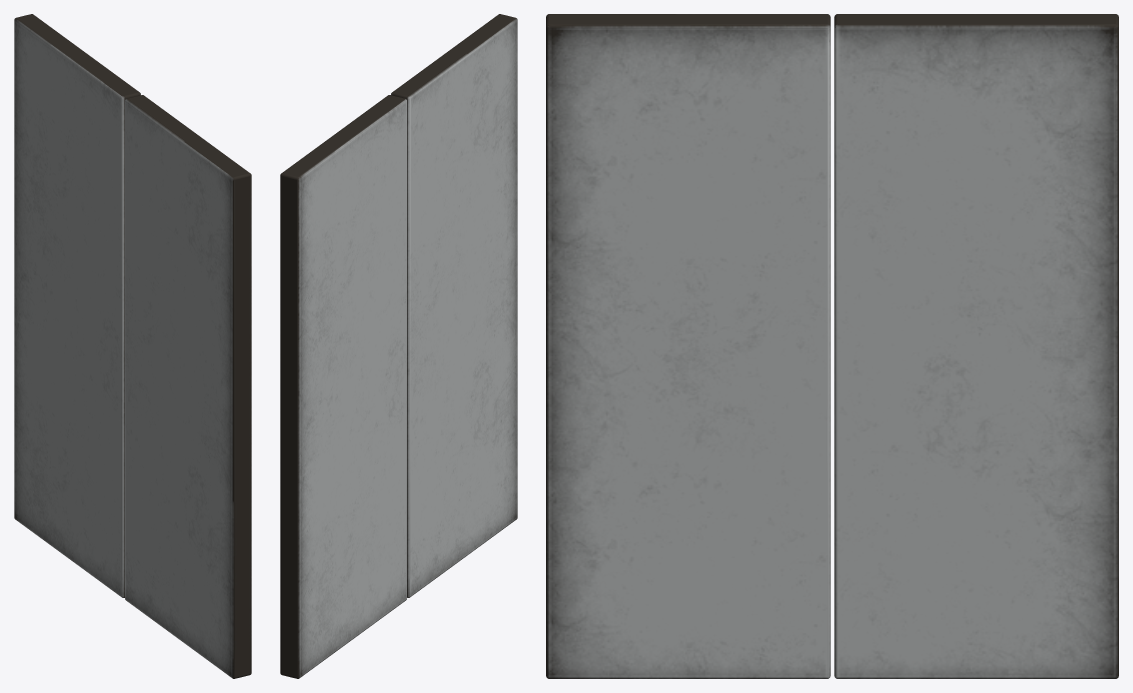
Rendered from animacion elevador.fbx.
3 views of the same model, side by side, from view 1: azimuth 30°, elevation 25°; view 2: azimuth 150°, elevation 25°; view 3: azimuth 270°, elevation 25° (orthographic). The views are drawn at different scales.
Visible parts, largest first — view 1: L_01_0, R_01_0; view 2: R_01_0, L_01_0; view 3: L_01_0, R_01_0.
Boxes of the visible parts, x1,y1,x2,y2 form: L_01_0: [125, 95, 251, 678]; R_01_0: [14, 14, 140, 597]; R_01_0: [280, 95, 406, 678]; L_01_0: [391, 14, 517, 597]; L_01_0: [546, 14, 830, 678]; R_01_0: [834, 14, 1118, 678].
Bounding box in the file's own units: 7.63 × 189 × 150.
Materials: 1 (1 with a texture image).
